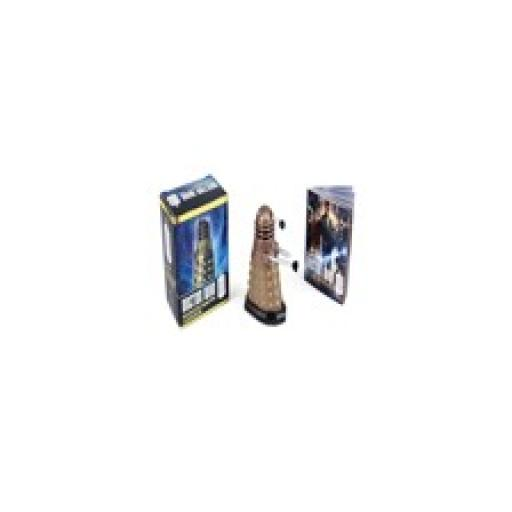dalek: (244, 205, 300, 328), (192, 213, 216, 300)
